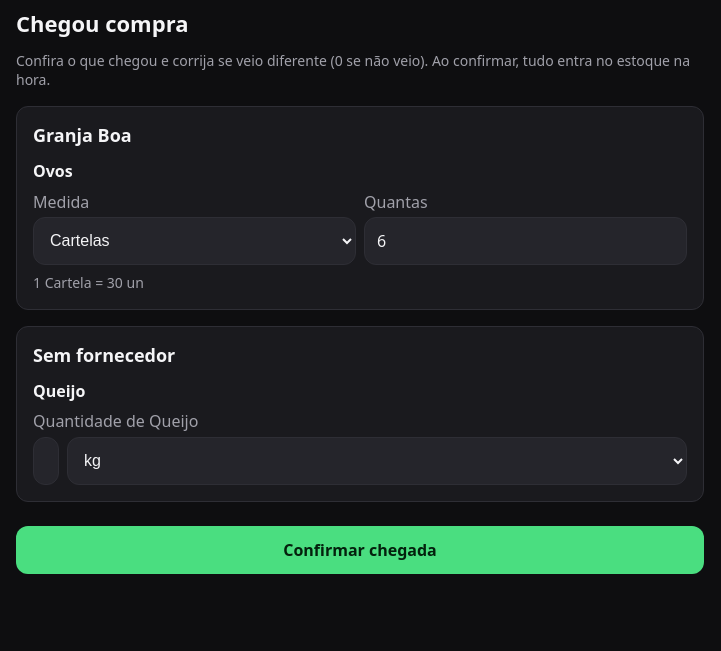
Test: Lista de compras › chegou duas vezes mostra a mensagem
The image size is (721, 651).
Click the button "Confirmar chegada". click: click(360, 550)
box: [16, 526, 704, 574]
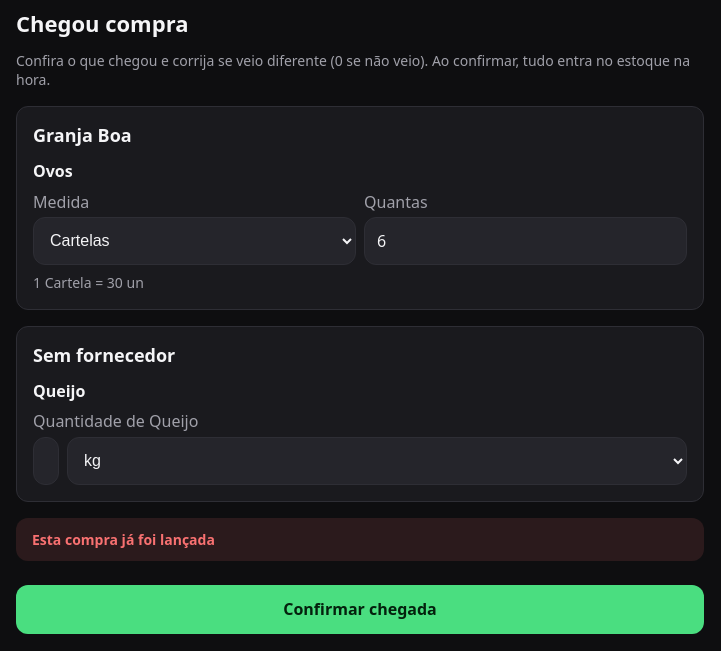
Expected: the message reads "Esta compra já foi lançada", [32, 530, 215, 548]
